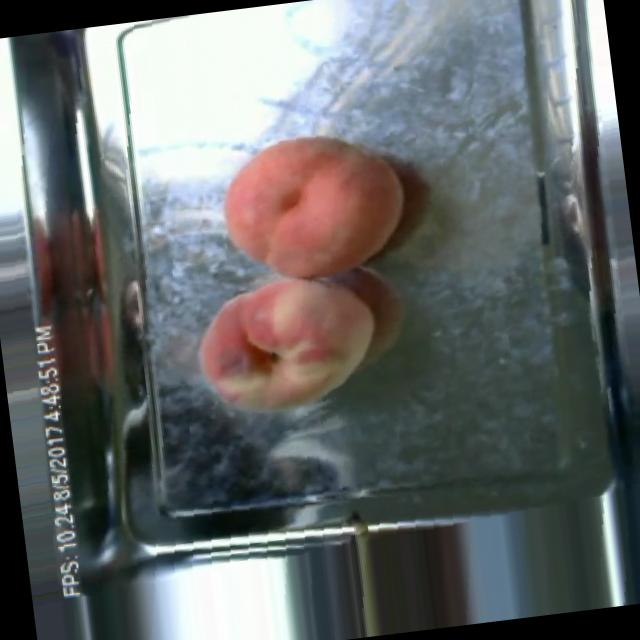Fruit: (205, 113, 422, 294), (181, 258, 390, 426)
